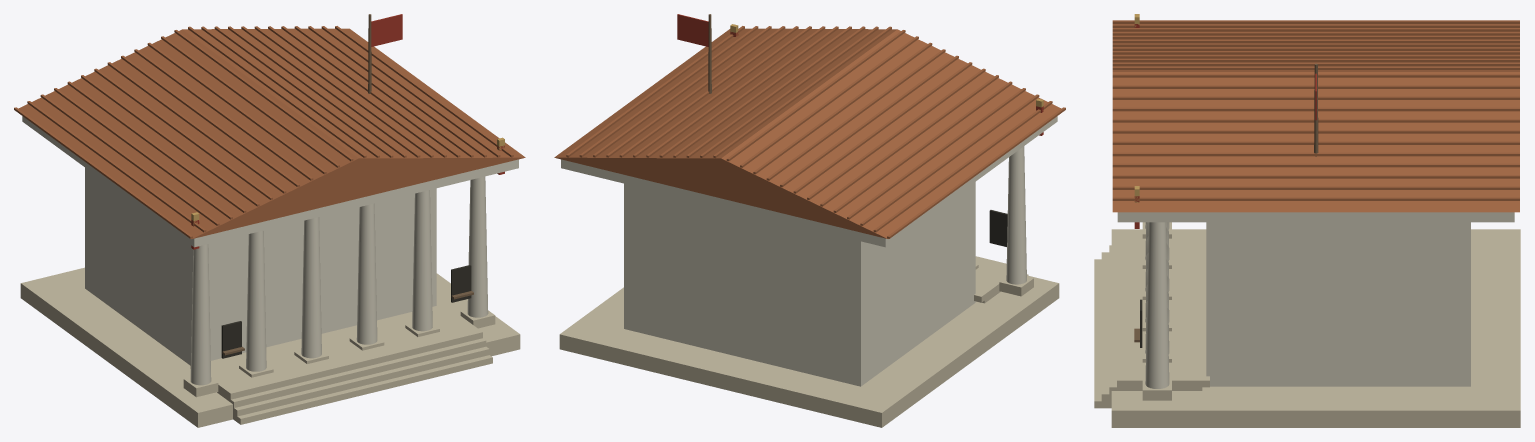
File: b-specialist-roman.glb
3 renders of one model, left to right at view 1: azimuth 30°, elevation 25°; view 2: azimuth 150°, elevation 25°; view 3: azimuth 270°, elevation 25°, orthographic. The views are drawn at different scales.
Parts seen in each view (by area): view 1: Structure; view 2: Structure; view 3: Structure.
Part boxes in pixels (x1,y1,x2,y2): Structure: (14, 14, 525, 427); Structure: (554, 14, 1065, 427); Structure: (1094, 20, 1520, 427).
Size of the model in its own units: 7.03 by 5.7 by 6.7.
